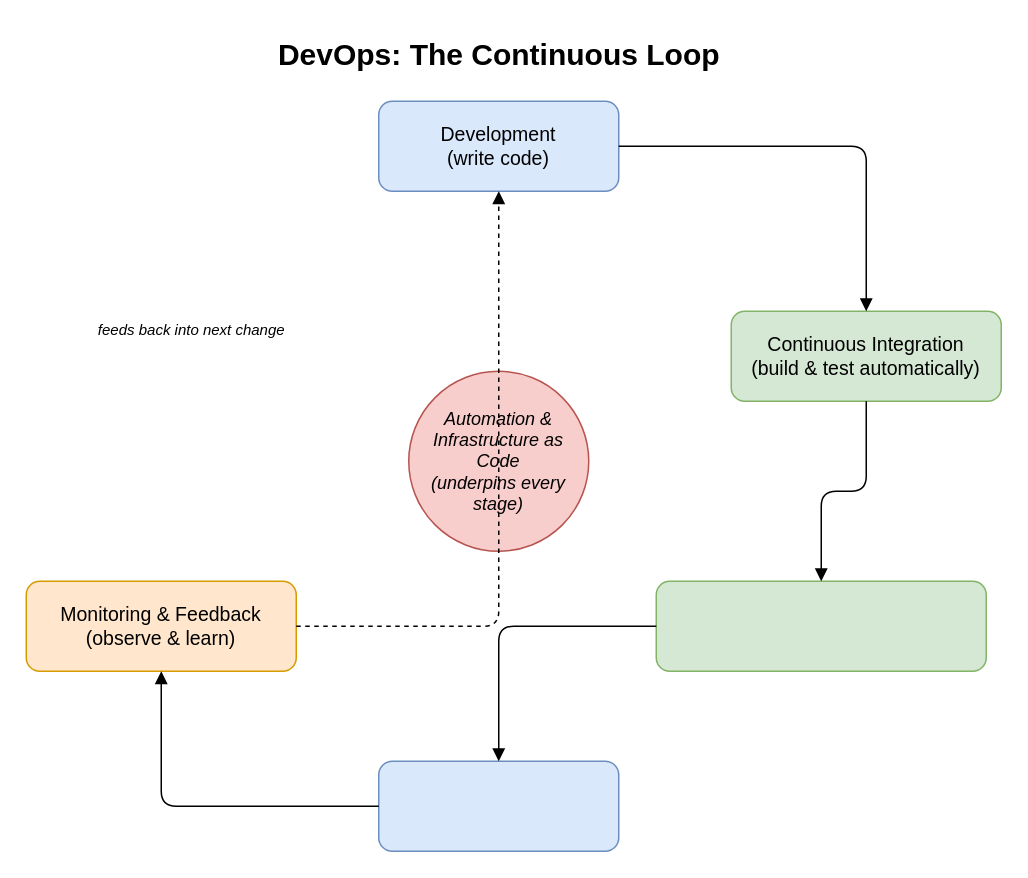
Some shapes in this 1028 by 878 pixel diagram are drawn without their labels. The box of each missing label's shape, as (x1, y1, x2, y2) in pixels:
Continuous Delivery/Deployment (release & provision automatically): (655, 580, 986, 671)
Operations (run in production): (377, 760, 619, 851)
